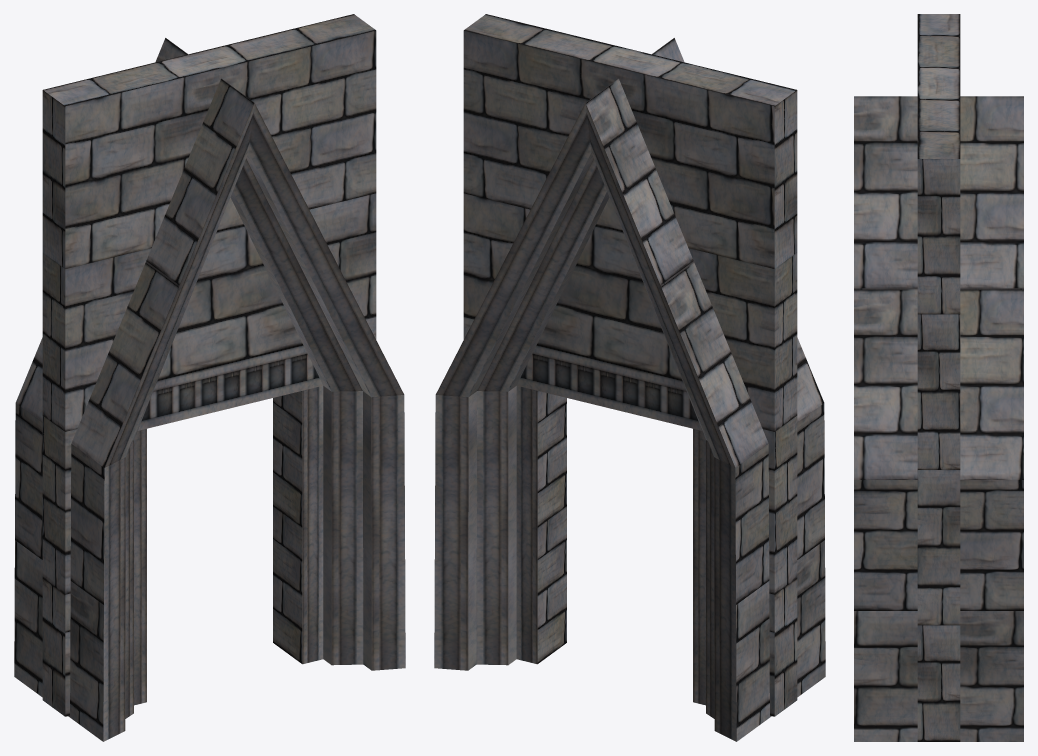
File: doorway_inner_01.fbx
The picture shows the model from 3 angles, left to right: view 1: azimuth 30°, elevation 25°; view 2: azimuth 150°, elevation 25°; view 3: azimuth 270°, elevation 25°; orthographic projection. The views are drawn at different scales.
Parts seen in each view (by area): view 1: doorway_inner_01; view 2: doorway_inner_01; view 3: doorway_inner_01.
Part boxes in pixels (bbox=[...]): doorway_inner_01: bbox=[14, 14, 405, 741]; doorway_inner_01: bbox=[434, 14, 825, 741]; doorway_inner_01: bbox=[854, 14, 1023, 741].
Size of the model in its own units: 800 by 1505 by 396.
